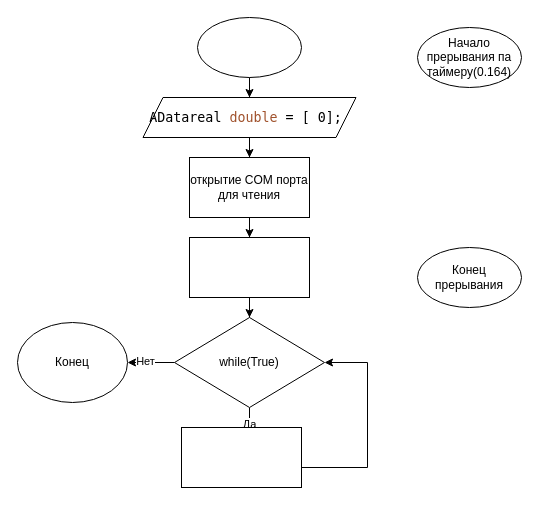
The diagram is 539 pixels wide and 505 high, and some of its shapes have lost their labels. Each missing label, with the box of its shape:
__NOP();: (180, 426, 302, 488)
Инициализация таймера и прерывания каждый 0.00164 мс: (188, 236, 310, 298)
Начало: (196, 16, 302, 78)
